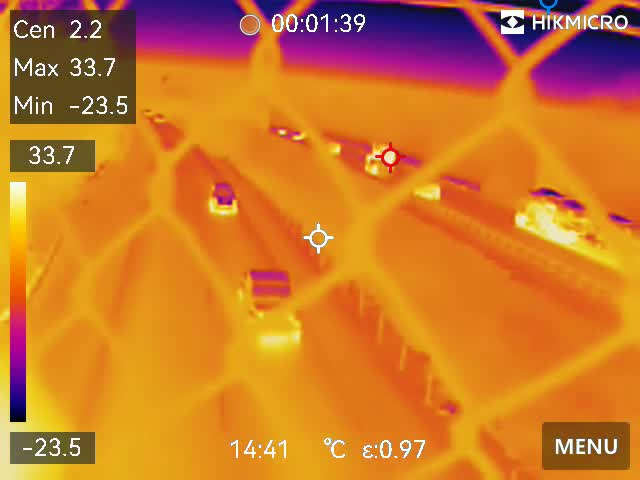heavyTruck: (514, 186, 640, 265), (364, 143, 444, 202)
vehicle: (240, 269, 302, 359), (207, 177, 238, 218), (147, 114, 168, 124)
